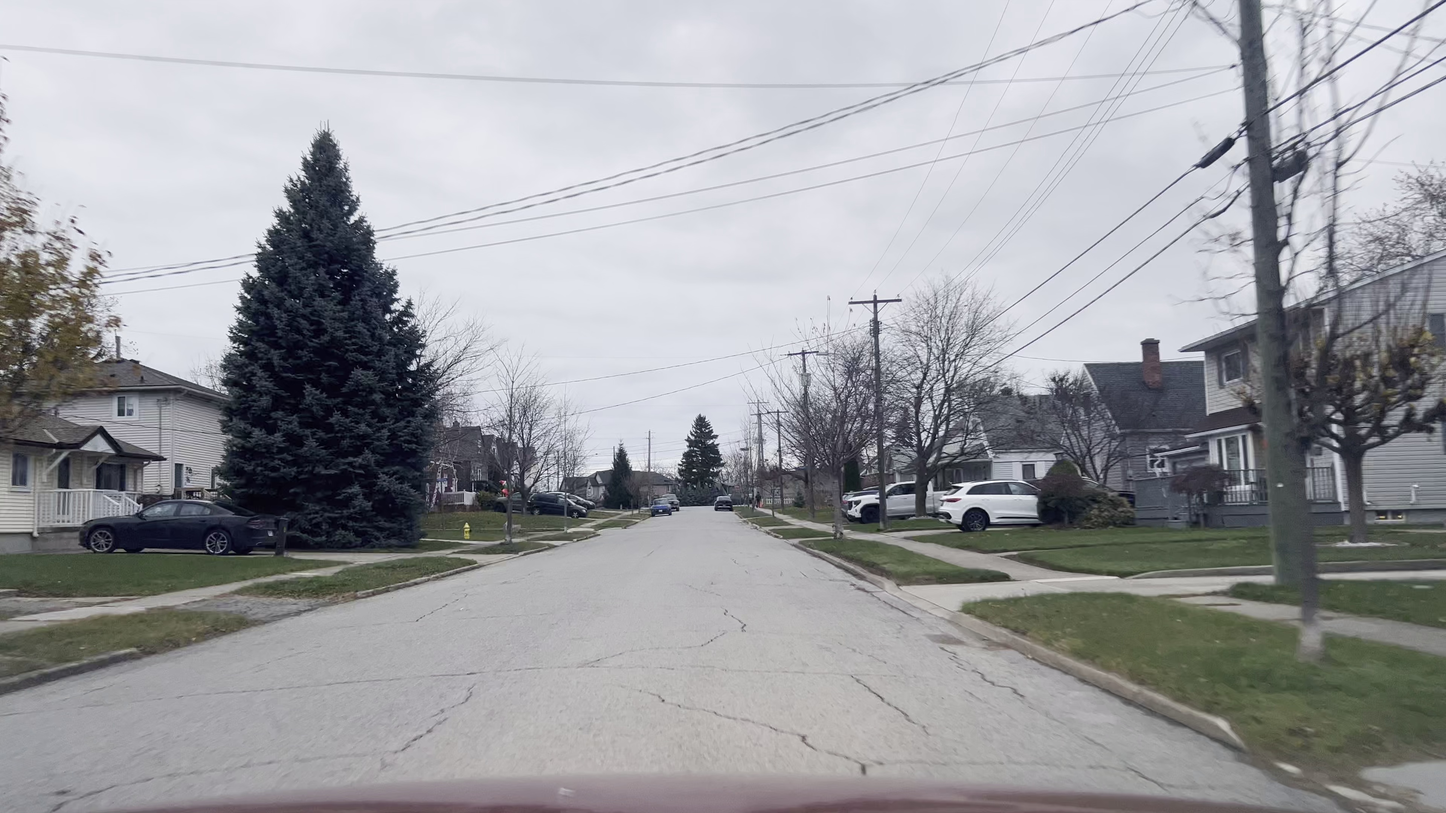cracks: (375, 684, 490, 768), (763, 710, 881, 777), (699, 590, 758, 641)
